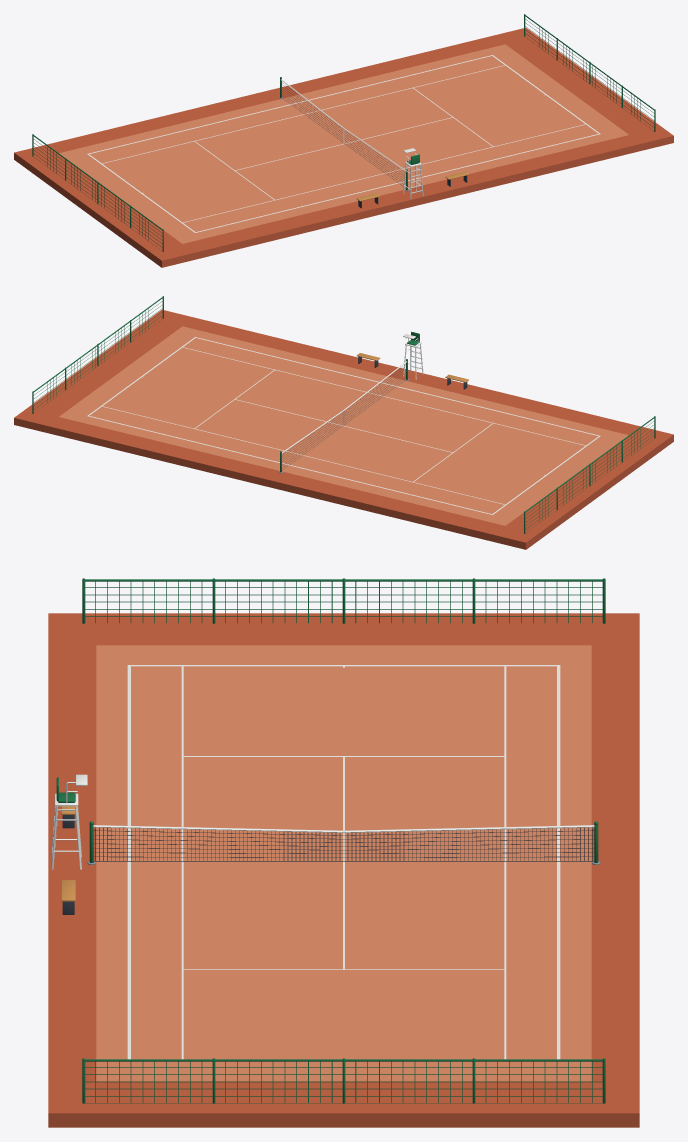
Rendered from quadra_tenis_saibro.glb.
3 renders of one model, top to bottom at view 1: azimuth 30°, elevation 25°; view 2: azimuth 150°, elevation 25°; view 3: azimuth 270°, elevation 25°, orthographic. The views are drawn at different scales.
Visible parts, largest first — view 1: quadra_tenis_saibro; view 2: quadra_tenis_saibro; view 3: quadra_tenis_saibro.
Part boxes in pixels (x1,y1,x2,y2): quadra_tenis_saibro: (14, 14, 673, 267); quadra_tenis_saibro: (14, 296, 673, 549); quadra_tenis_saibro: (48, 578, 639, 1127).
Size of the model in its own units: 30 by 2.75 by 15.
1 material, 1 textured.
